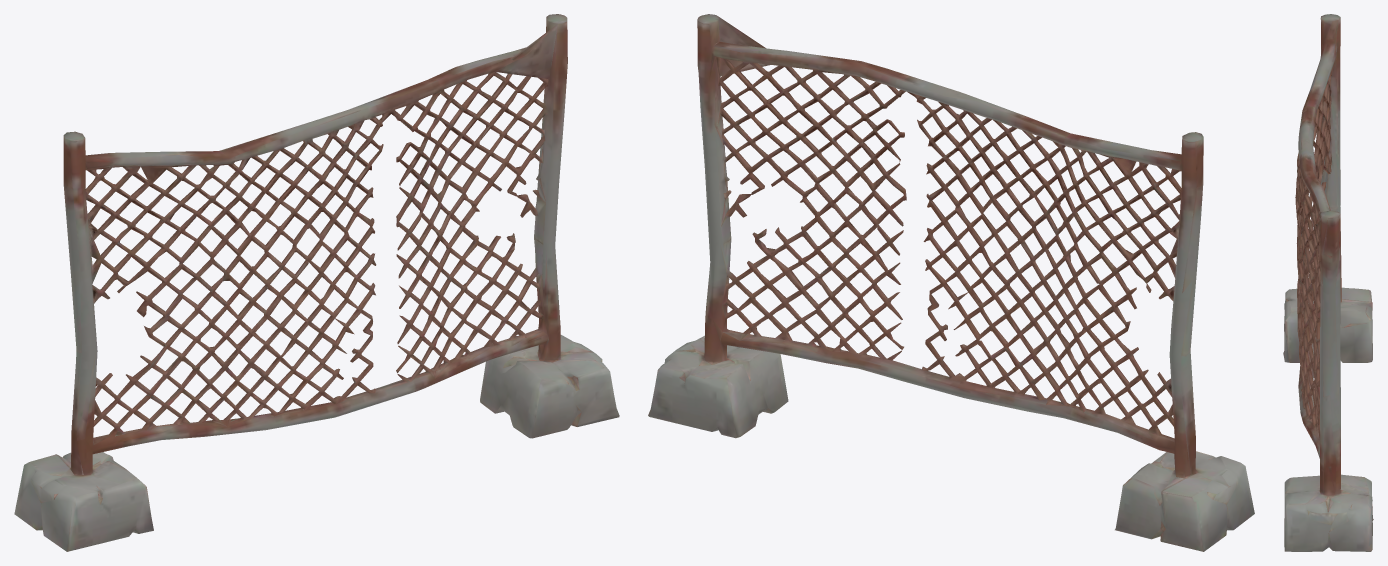
The model's file is prop-fence.glb.
3 views of the same model, side by side, from view 1: azimuth 30°, elevation 25°; view 2: azimuth 150°, elevation 25°; view 3: azimuth 270°, elevation 25° (orthographic). The views are drawn at different scales.
Parts seen in each view (by area): view 1: Mesh_0; view 2: Mesh_0; view 3: Mesh_0.
Boxes of the visible parts, x1,y1,x2,y2 form: Mesh_0: (14, 14, 619, 551); Mesh_0: (648, 14, 1254, 551); Mesh_0: (1283, 14, 1373, 551).
Bounding box in the file's own units: 1.91 × 1.28 × 0.3234.
Materials: 1 (1 with a texture image).
